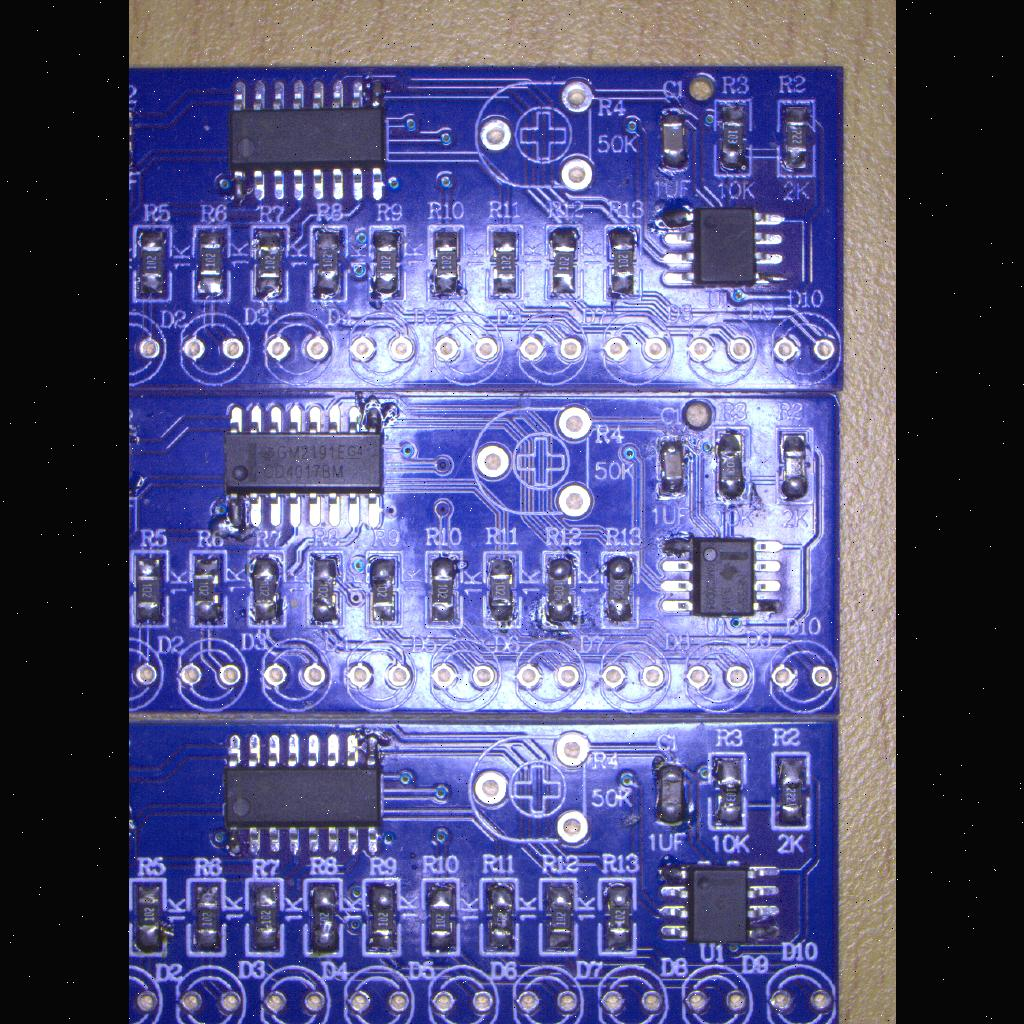OK: (218, 398, 390, 536), (216, 730, 390, 864), (224, 73, 390, 209), (652, 530, 792, 622), (658, 202, 792, 296), (653, 858, 785, 952), (360, 548, 406, 632), (359, 874, 403, 960), (128, 223, 174, 305), (768, 750, 814, 832), (710, 96, 754, 180), (306, 222, 350, 306), (477, 874, 521, 958), (300, 876, 344, 960), (773, 98, 817, 180), (188, 222, 232, 304), (538, 550, 582, 632), (594, 875, 638, 957), (184, 876, 228, 958), (482, 548, 524, 632), (304, 548, 346, 632), (129, 547, 171, 631), (705, 750, 747, 834), (538, 874, 580, 958), (243, 876, 285, 960), (480, 222, 524, 302), (645, 760, 693, 832), (602, 220, 644, 302), (364, 222, 406, 304), (711, 424, 753, 506), (244, 548, 286, 630), (186, 548, 228, 630), (419, 875, 461, 957), (128, 876, 170, 958), (424, 223, 466, 303), (248, 224, 290, 304), (772, 426, 814, 506), (598, 550, 640, 630), (422, 550, 464, 630), (544, 220, 584, 302), (651, 426, 693, 504), (652, 104, 696, 178)
